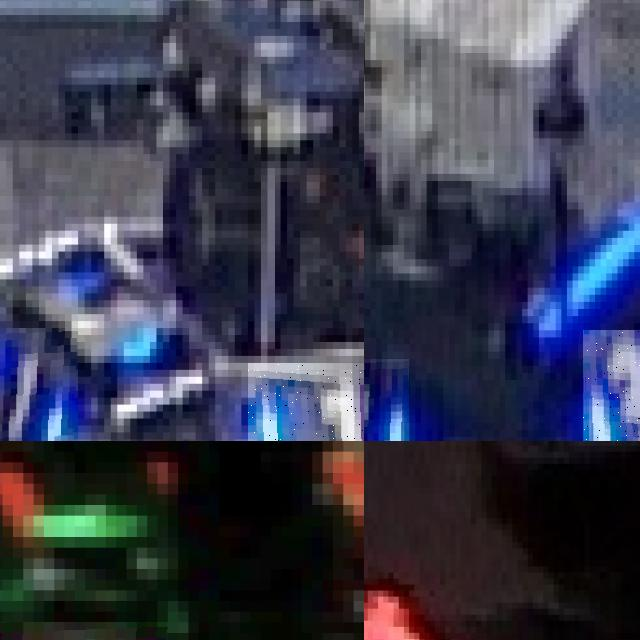B1: (247, 362, 364, 441), (0, 328, 78, 441)
B3: (583, 330, 640, 441), (364, 359, 409, 441)
